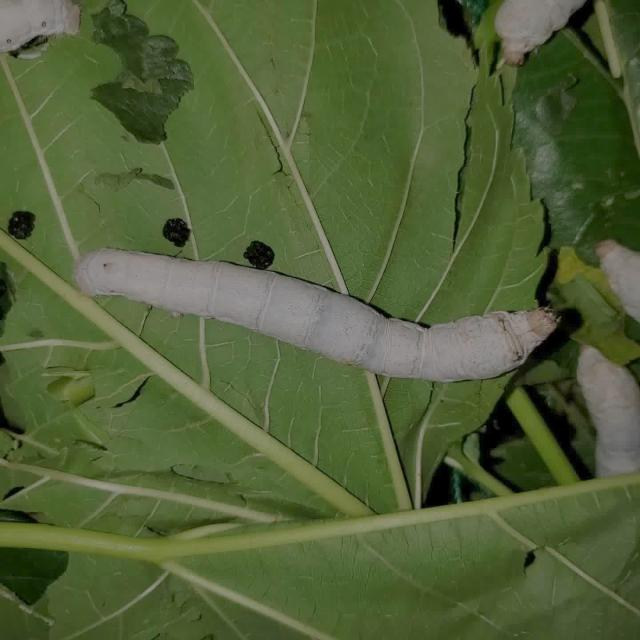Healthy: (66, 235, 566, 406)
